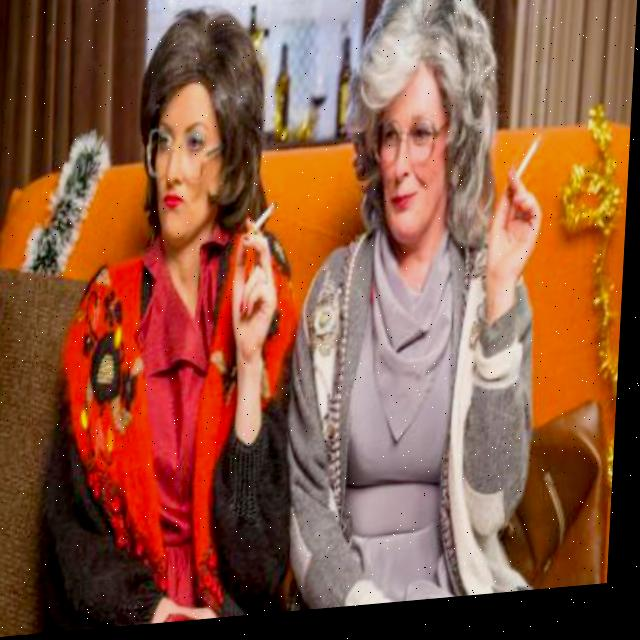cigarette: (514, 143, 545, 192), (250, 208, 280, 246)
